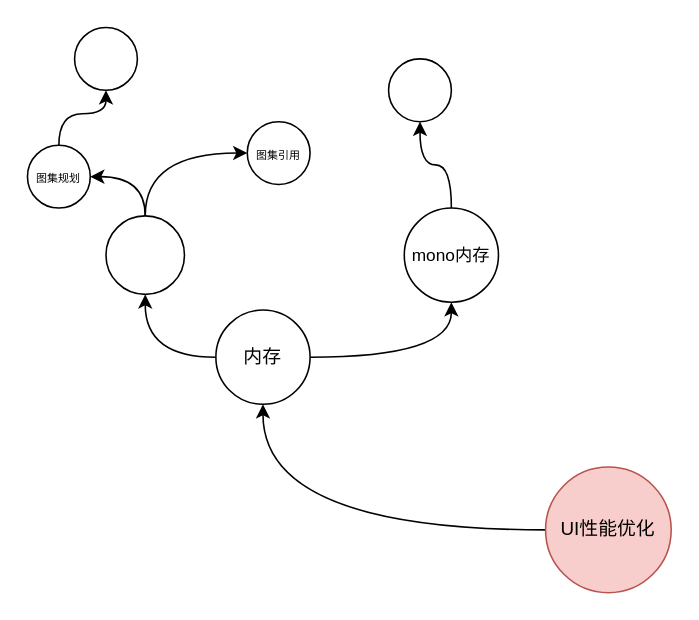
The diagram is 699 pixels wide and 620 high, and some of its shapes have lost their labels. The centre of each missing label's shape, as x and y in pixels:
"内存无法被GC掉" goes at [419,89].
"图集内存" goes at [144,254].
"资源未使用" goes at [105,58].
